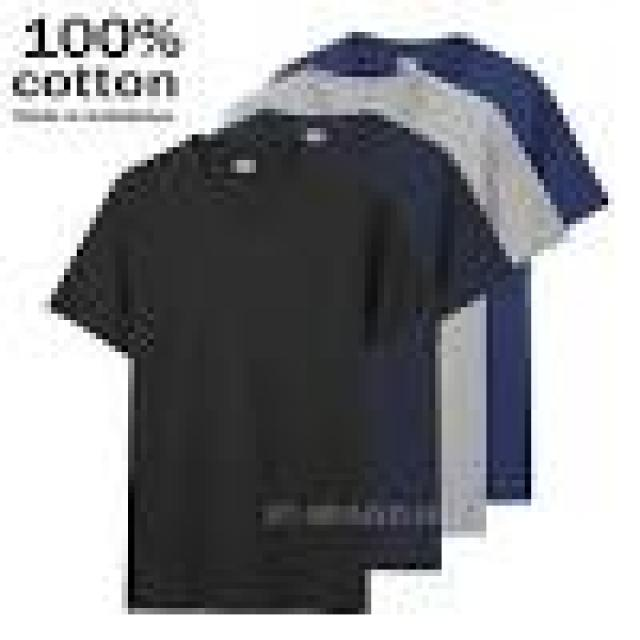Shirt: (63, 122, 424, 613), (284, 21, 593, 498), (241, 59, 536, 474), (218, 96, 496, 518)
